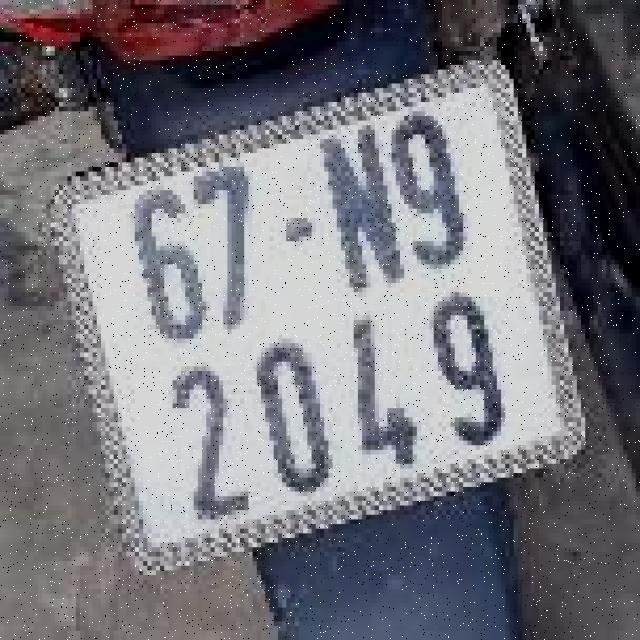0: (246, 327, 339, 503)
2: (156, 354, 257, 536)
4: (335, 301, 423, 473)
6: (118, 160, 215, 346)
7: (184, 146, 268, 332)
9: (389, 92, 486, 274), (425, 278, 514, 459)
N: (305, 102, 411, 292)
